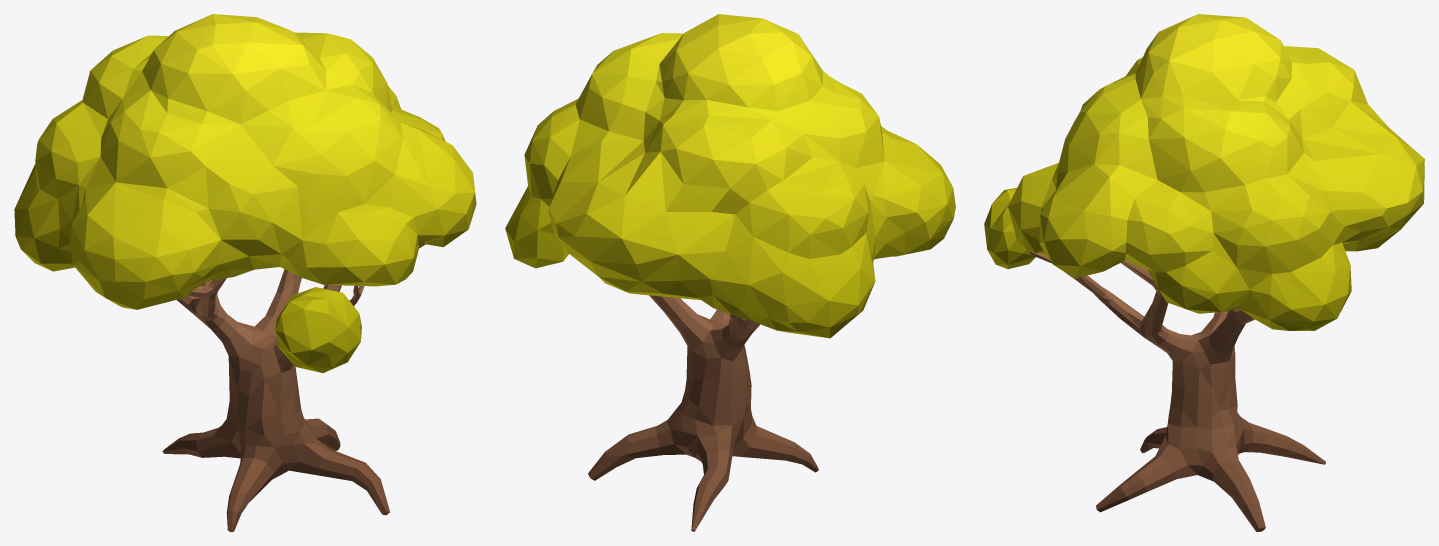
File: Tree_common_Yellow_03.fbx
The picture shows the model from 3 angles, left to right: view 1: azimuth 30°, elevation 25°; view 2: azimuth 150°, elevation 25°; view 3: azimuth 270°, elevation 25°; orthographic projection. The views are drawn at different scales.
Parts seen in each view (by area): view 1: Tree_common_Yellow_03; view 2: Tree_common_Yellow_03; view 3: Tree_common_Yellow_03.
Part boxes in pixels (x1,y1,x2,y2): Tree_common_Yellow_03: (14, 14, 476, 531); Tree_common_Yellow_03: (505, 14, 955, 531); Tree_common_Yellow_03: (984, 14, 1424, 531).
Size of the model in its own units: 686 by 838 by 746.
